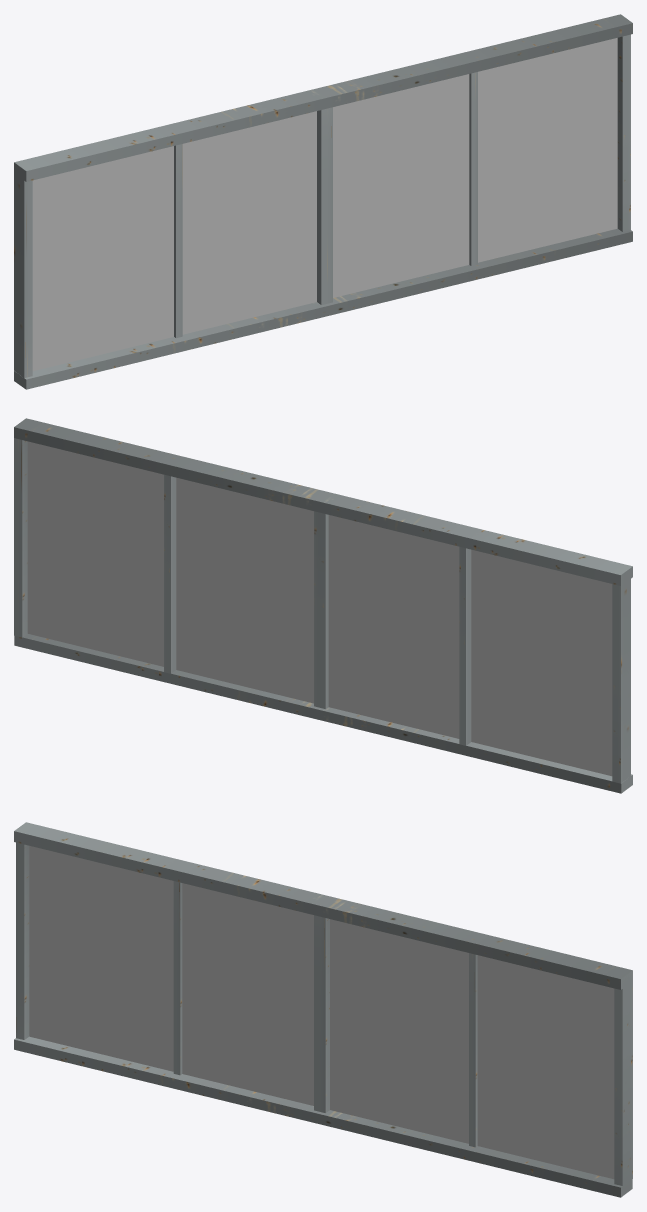
The model's file is bil_window_a2_08.fbx.
3 views of the same model, one above another, from view 1: azimuth 30°, elevation 25°; view 2: azimuth 150°, elevation 25°; view 3: azimuth 330°, elevation 25° (orthographic).
Visible parts, largest first — view 1: bil_window_a2_08; view 2: bil_window_a2_08; view 3: bil_window_a2_08.
Boxes of the visible parts, left/top/right/bottom form: bil_window_a2_08: left=14, top=14, right=632, bottom=389; bil_window_a2_08: left=14, top=418, right=632, bottom=793; bil_window_a2_08: left=14, top=822, right=632, bottom=1197.
Size of the model in its own units: 360 by 124 by 12.5.
